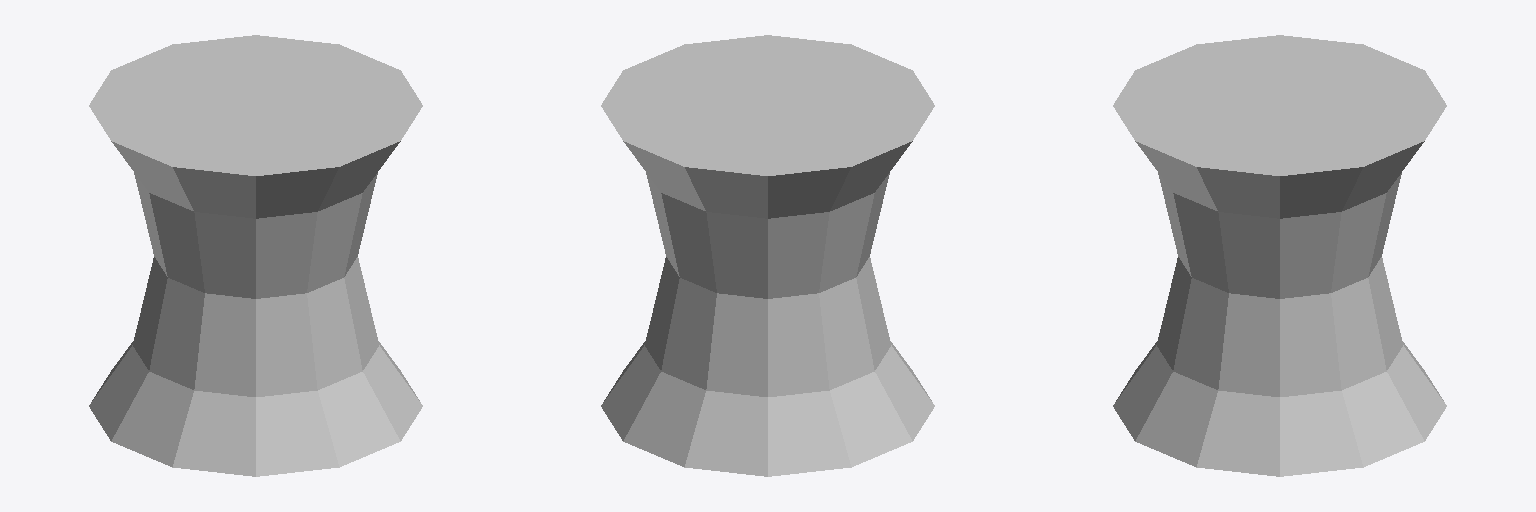
Rendered from connection3.obj.
The picture shows the model from 3 angles: view 1: azimuth 30°, elevation 25°; view 2: azimuth 150°, elevation 25°; view 3: azimuth 270°, elevation 25°; orthographic projection.
Visible parts, largest first — view 1: pCylinder2; view 2: pCylinder2; view 3: pCylinder2.
Part boxes in pixels (x1,y1,x2,y2): pCylinder2: (89,35,422,476); pCylinder2: (601,35,934,476); pCylinder2: (1113,35,1446,476).
Bounding box in the file's own units: 1.77 × 1.76 × 1.77.